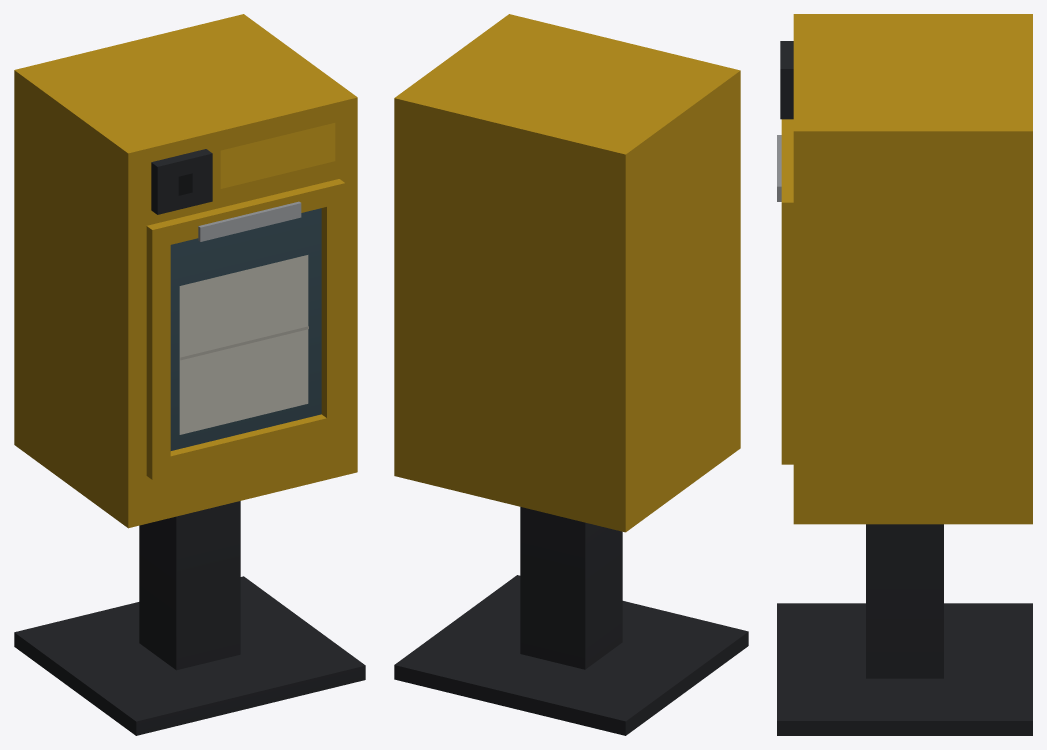
Rendered from street.newsbox.yellow.glb.
The picture shows the model from 3 angles, left to right: view 1: azimuth 30°, elevation 25°; view 2: azimuth 150°, elevation 25°; view 3: azimuth 270°, elevation 25°; orthographic projection. The views are drawn at different scales.
Parts seen in each view (by area): view 1: street_newsbox_yellow; view 2: street_newsbox_yellow; view 3: street_newsbox_yellow.
Boxes of the visible parts, left/top/right/bottom form: street_newsbox_yellow: left=14, top=14, right=365, bottom=735; street_newsbox_yellow: left=394, top=14, right=748, bottom=735; street_newsbox_yellow: left=777, top=14, right=1032, bottom=735.
Size of what is drawn, in the model's own units: 0.5 by 1.2 by 0.46.
